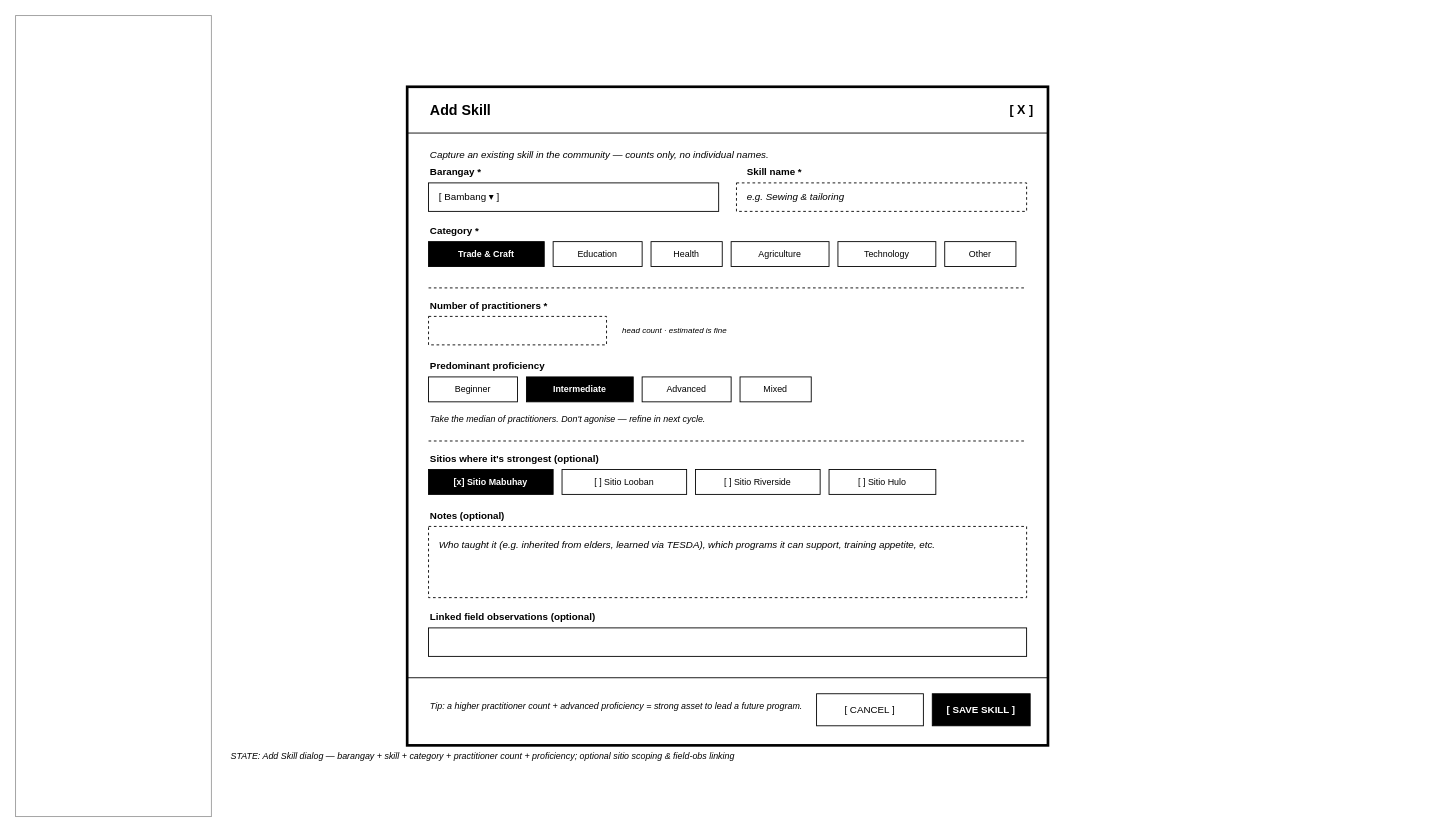
Image size: 1437x832. Some labels were removed from this diagram. The centre of each missing label's shape, as x and y in pixels:
[ Pick observations to attach ▾ ]: the point at 727,641
AGAPE: the point at 113,416
e.g. 38: the point at 517,330
